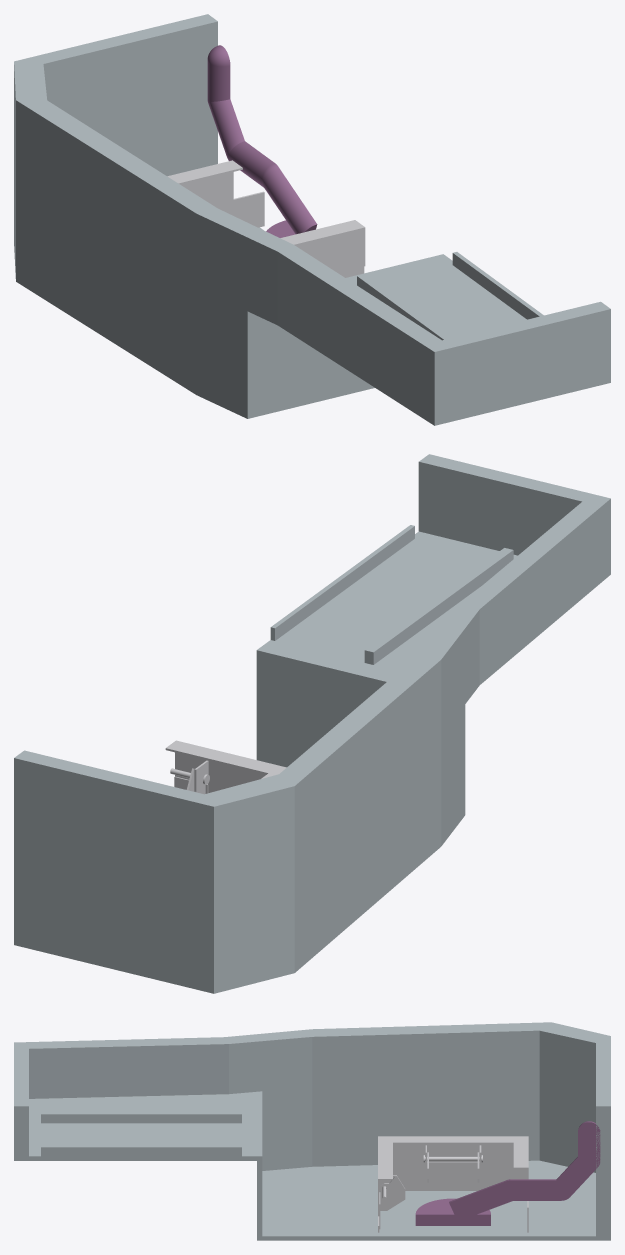
Rendered from baseline_pan_section.glb.
3 views of the same model, one above another, from view 1: azimuth 30°, elevation 25°; view 2: azimuth 150°, elevation 25°; view 3: azimuth 270°, elevation 25° (orthographic). The views are drawn at different scales.
Visible parts, largest first — view 1: baseline_pan_section (×3); view 2: baseline_pan_section (×2); view 3: baseline_pan_section (×3).
Boxes of the visible parts, x1,y1,x2,y2 form: baseline_pan_section (×3): (14,14,610,425); baseline_pan_section (×2): (14,454,610,993); baseline_pan_section (×3): (14,1022,610,1240).
Bounding box in the file's own units: 0.158 × 0.118 × 0.4747.
